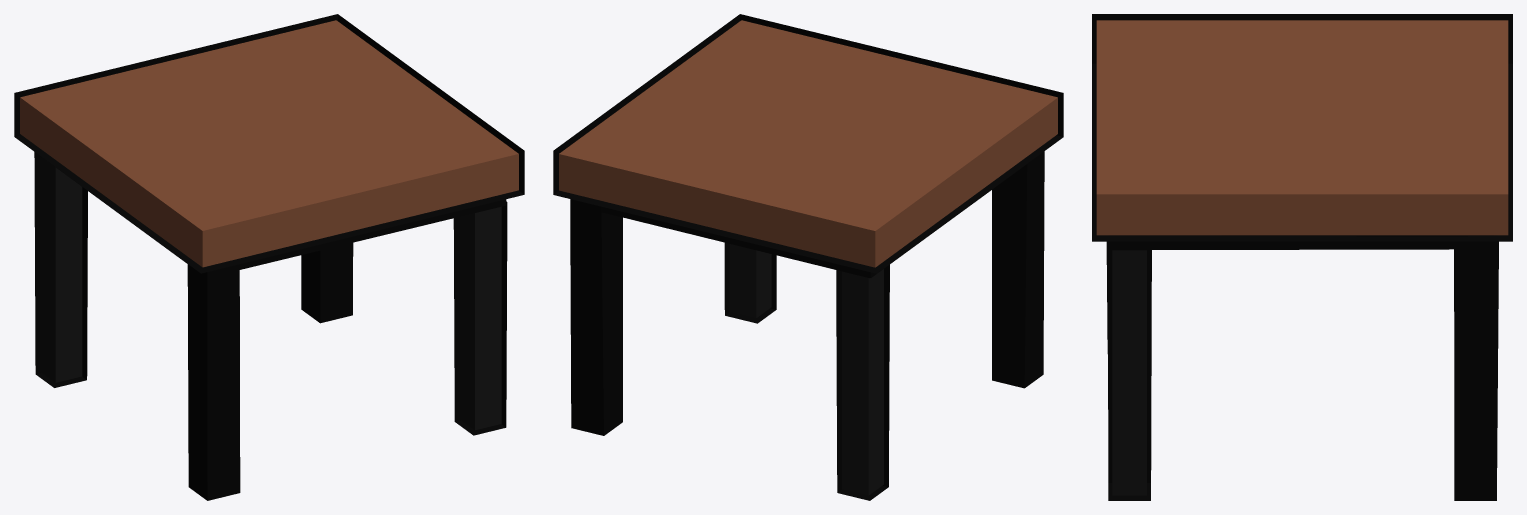
The model's file is Desk.FBX.
The picture shows the model from 3 angles, left to right: view 1: azimuth 30°, elevation 25°; view 2: azimuth 150°, elevation 25°; view 3: azimuth 270°, elevation 25°; orthographic projection. The views are drawn at different scales.
Parts seen in each view (by area): view 1: Top, LegsOutline, Legs, TopOutline; view 2: Top, LegsOutline, Legs, TopOutline; view 3: Top, LegsOutline, Legs, TopOutline.
Boxes of the visible parts, x1,y1,x2,y2 form: Top: [20, 20, 518, 267]; LegsOutline: [34, 152, 507, 500]; Legs: [40, 156, 501, 430]; TopOutline: [14, 14, 524, 273]; Top: [559, 20, 1057, 267]; LegsOutline: [570, 151, 1044, 500]; Legs: [729, 244, 883, 495]; TopOutline: [553, 14, 1063, 273]; Top: [1096, 20, 1508, 235]; LegsOutline: [1106, 235, 1498, 500]; Legs: [1112, 250, 1146, 495]; TopOutline: [1092, 14, 1512, 241].
Bounding box in the file's own units: 1.03 × 0.8546 × 1.03.
